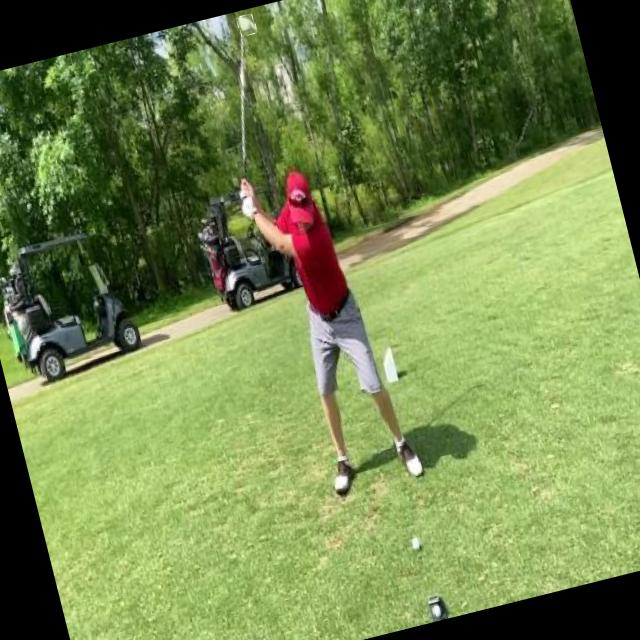club head: (236, 13, 257, 36)
